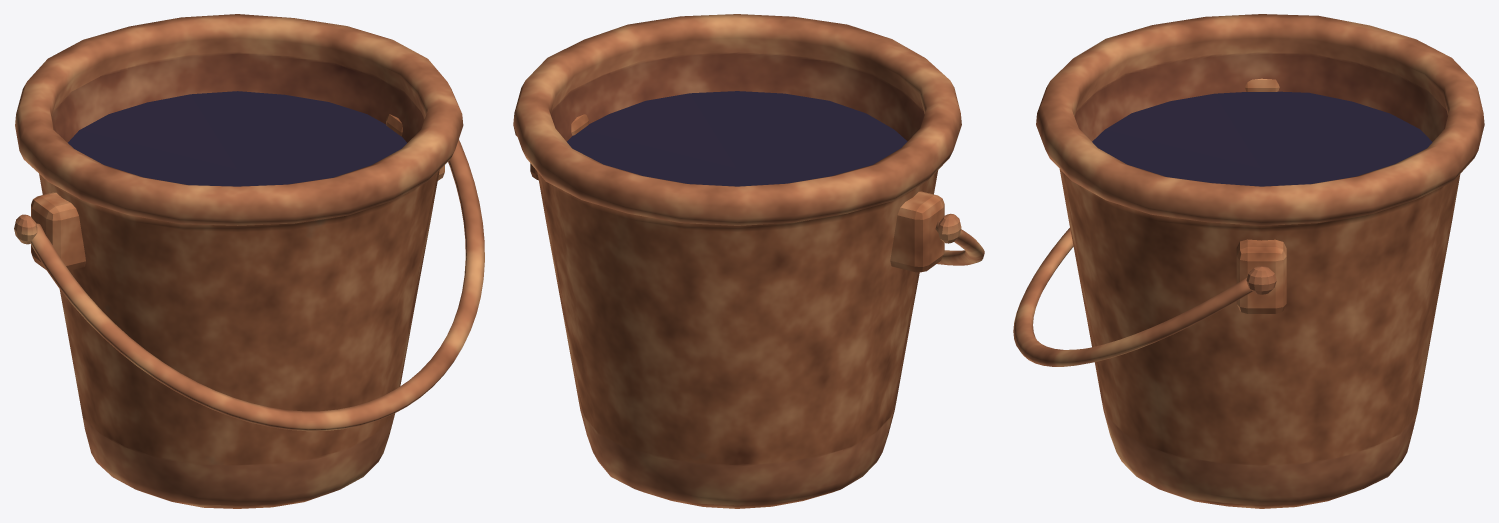
The model's file is Balde_de_Cobre_Cheio_Jogo_1K.glb.
3 renders of one model, left to right at view 1: azimuth 30°, elevation 25°; view 2: azimuth 150°, elevation 25°; view 3: azimuth 270°, elevation 25°, orthographic.
Parts seen in each view (by area): view 1: Corpo de cobre, Conteudo_Lago_Escuro, Alça de cobre; view 2: Corpo de cobre, Conteudo_Lago_Escuro, Alça de cobre; view 3: Corpo de cobre, Conteudo_Lago_Escuro, Alça de cobre.
Part boxes in pixels (x1,y1,x2,y2): Corpo de cobre: (14,14,463,508); Conteudo_Lago_Escuro: (68,91,406,186); Alça de cobre: (30,139,484,431); Corpo de cobre: (513,14,961,508); Conteudo_Lago_Escuro: (567,91,907,186); Alça de cobre: (935,220,984,265); Corpo de cobre: (1036,14,1484,508); Conteudo_Lago_Escuro: (1092,91,1432,186); Alça de cobre: (1013,228,1252,366).
Size of the model in its own units: 0.472 by 0.358 by 0.4349.
Materials: 2 (1 with a texture image).
